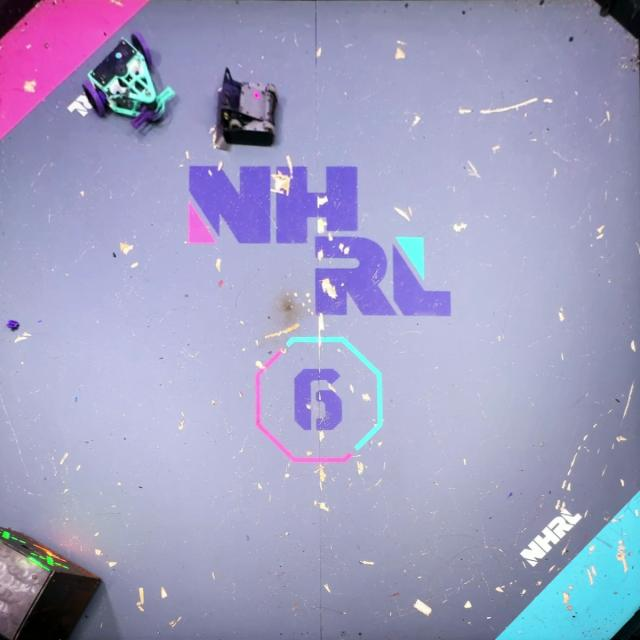housebot: (0, 524, 105, 639)
robot: (81, 31, 178, 133), (212, 65, 281, 152)
